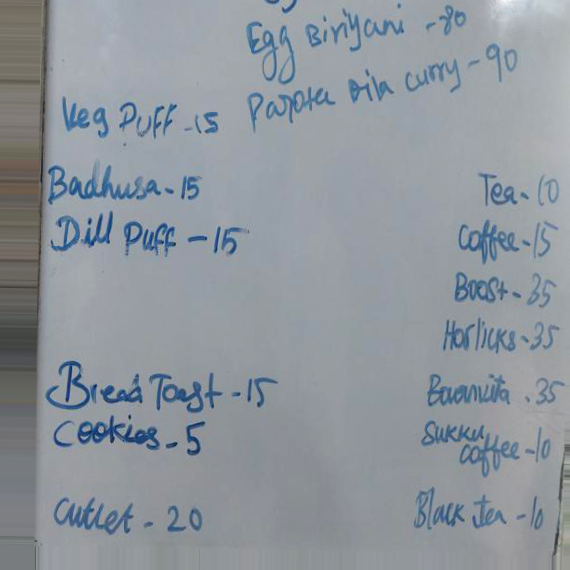Tea - 10: (466, 165, 570, 212)
badhusa -15: (44, 162, 210, 206)
black tea - 10: (410, 484, 558, 543)
boost - 35: (447, 267, 570, 311)
bournvita - 35: (421, 365, 570, 408)
bread toast - 15: (41, 353, 286, 414)
coffee - 15: (454, 214, 570, 263)
cookies - 5: (51, 414, 212, 463)
cutlet - 20: (52, 492, 217, 542)
dill puff - 15: (49, 209, 257, 269)
egg briyani - 80: (233, 1, 409, 58)
horlicks - 35: (438, 316, 570, 358)
parotta - 90: (235, 62, 469, 136)
sukku coffee - 10: (418, 412, 570, 476)
veg puff - 15: (53, 101, 225, 140)
